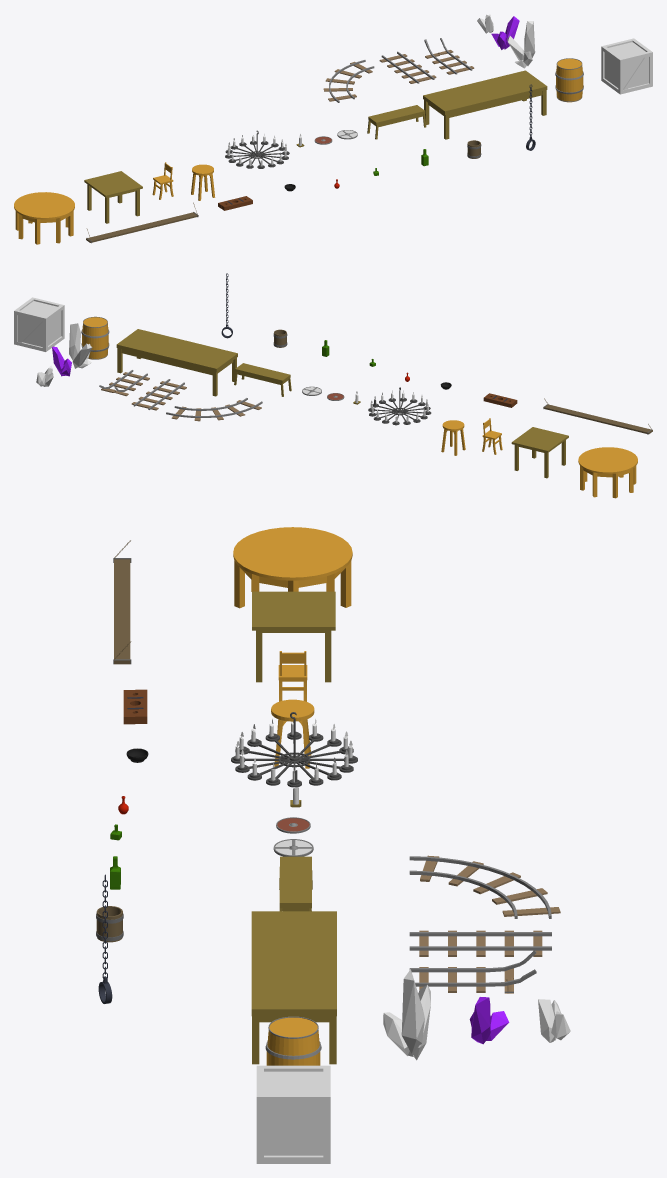
File: Medeival Assets.fbx
The picture shows the model from 3 angles, top to bottom: view 1: azimuth 30°, elevation 25°; view 2: azimuth 150°, elevation 25°; view 3: azimuth 270°, elevation 25°; orthographic projection. The views are drawn at different scales.
Visible parts, largest first — view 1: Table Long, Box, Table Circular, table squared, chandiler, Barrel, Bench, Cube.002, wall shelf, Icosphere.008, Cube, Cube.001 (+3 smaller); view 2: Table Long, Box, Table Circular, table squared, chandiler, Barrel, Bench, Cube.002, Icosphere.008, wall shelf, Cube, Cube.001 (+3 smaller); view 3: Table Long, Box, Table Circular, table squared, chandiler, Cube.002, Barrel, Icosphere.008, Cube, wall shelf, Bench, Cube.001 (+4 smaller).
Part boxes in pixels (x1,y1,x2,y2): Table Long: (423, 70, 547, 139); Box: (601, 38, 652, 94); Table Circular: (14, 192, 74, 244); table squared: (84, 171, 142, 223); chandiler: (225, 130, 289, 168); Barrel: (555, 58, 583, 102); Bench: (367, 105, 426, 139); Cube.002: (323, 60, 374, 102); wall shelf: (86, 202, 198, 243); Icosphere.008: (507, 21, 535, 68); Cube: (379, 51, 436, 83); Cube.001: (424, 38, 474, 74); Table Long: (116, 329, 237, 396); Box: (14, 297, 64, 351); Table Circular: (578, 447, 637, 498); table squared: (511, 427, 568, 478); chandiler: (368, 387, 431, 425); Barrel: (81, 316, 109, 359); Bench: (234, 363, 291, 396); Cube.002: (166, 398, 262, 421); Icosphere.008: (69, 323, 92, 368); wall shelf: (543, 398, 652, 434); Cube: (131, 379, 186, 410); Cube.001: (99, 370, 149, 396); Table Long: (251, 911, 336, 1064); Box: (256, 1065, 330, 1163); Table Circular: (233, 527, 352, 608); table squared: (252, 591, 335, 682); chandiler: (231, 712, 357, 787); Cube.002: (409, 855, 560, 918); Barrel: (265, 1016, 321, 1065); Icosphere.008: (383, 969, 430, 1060); Cube: (409, 930, 551, 956); wall shelf: (113, 540, 131, 664); Bench: (279, 856, 312, 911); Cube.001: (409, 950, 536, 993).
Bounding box in the file's own units: 958 × 115 × 323.
